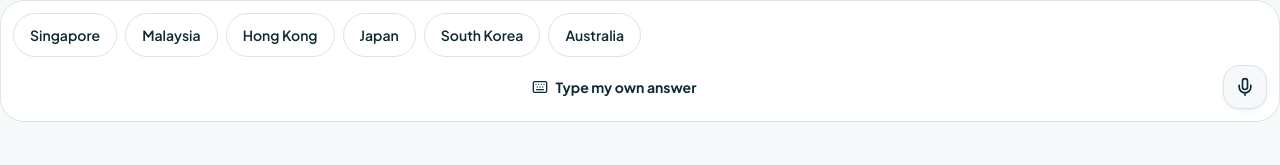
Scenario: typing instead › switches to a text box, sends on Enter, and goes back to the chips
Click the button "Type my own answer": (614, 87) 13,65 -> 1215,109
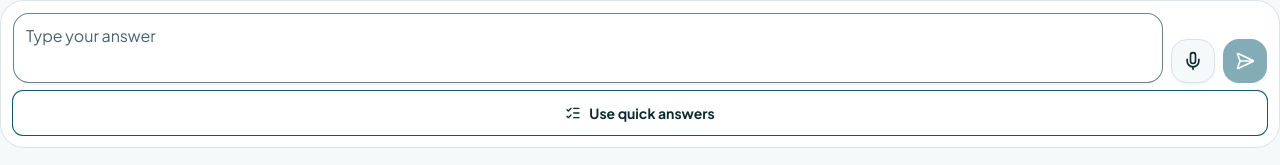
In the text box labelled "your answer": (588, 48) 13,13 -> 1163,83, type "I will go to Dubai"
Then press Enter
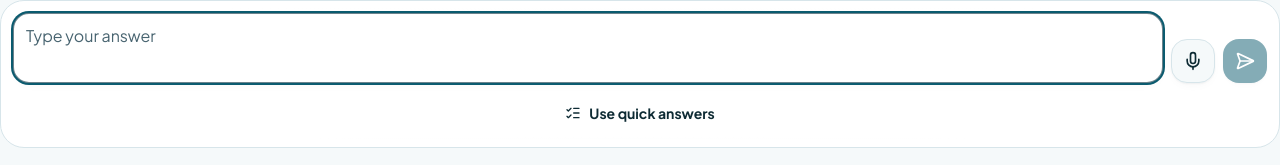
Click the button "Use quick answers": (640, 113) 13,91 -> 1267,135
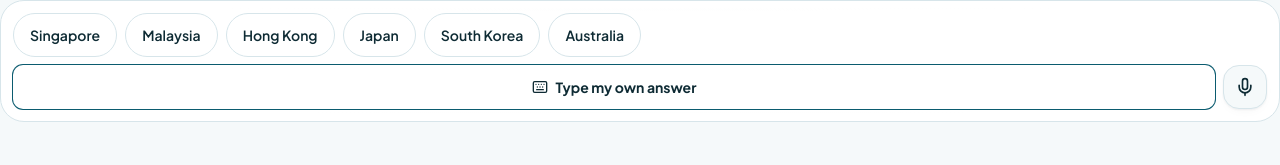
Check: the button "Singapore" is shown, box 13,13 -> 117,57
